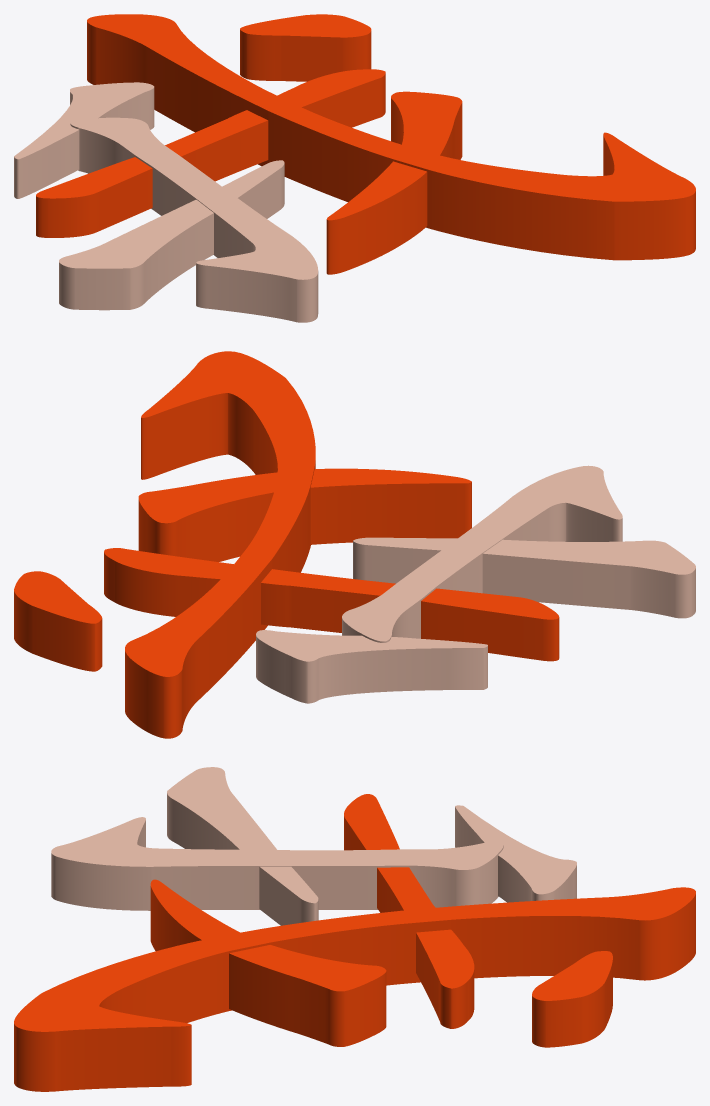
File: hanzi141.fbx
The picture shows the model from 3 angles, top to bottom: view 1: azimuth 30°, elevation 25°; view 2: azimuth 150°, elevation 25°; view 3: azimuth 270°, elevation 25°; orthographic projection. The views are drawn at different scales.
Parts seen in each view (by area): view 1: Curve.004, Curve.002, Curve.001, Curve.003, Curve.005, Curve.006, Curve; view 2: Curve.004, Curve.005, Curve.001, Curve.003, Curve.002, Curve, Curve.006; view 3: Curve.004, Curve.002, Curve.005, Curve.003, Curve.001, Curve.006, Curve.
Boxes of the visible parts, x1,y1,x2,y2 form: Curve.004: [87, 14, 695, 260]; Curve.002: [70, 117, 318, 322]; Curve.001: [36, 69, 385, 237]; Curve.003: [59, 160, 284, 310]; Curve.005: [326, 91, 462, 274]; Curve.006: [240, 14, 371, 81]; Curve: [14, 82, 154, 198]; Curve.004: [125, 351, 315, 738]; Curve.005: [138, 468, 471, 561]; Curve.001: [104, 548, 559, 661]; Curve.003: [353, 537, 695, 618]; Curve.002: [342, 465, 622, 642]; Curve: [256, 630, 487, 703]; Curve.006: [14, 571, 102, 671]; Curve.004: [14, 887, 695, 1091]; Curve.002: [51, 817, 503, 910]; Curve.005: [150, 879, 386, 1046]; Curve.003: [167, 767, 318, 925]; Curve.001: [344, 794, 474, 1028]; Curve.006: [532, 951, 612, 1047]; Curve: [455, 805, 576, 902].
Size of the model in its own units: 23.42 by 24.68 by 2.4.
